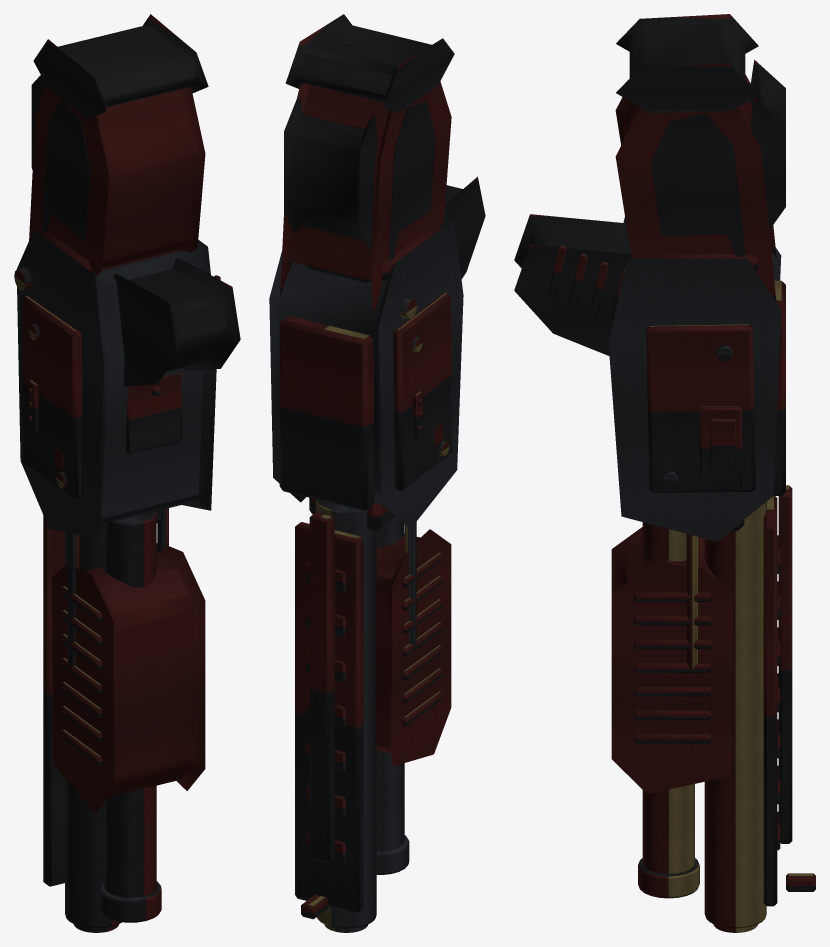
File: BLIKK_B8_BREAKSHOT_V3.glb
3 renders of one model, left to right at view 1: azimuth 30°, elevation 25°; view 2: azimuth 150°, elevation 25°; view 3: azimuth 270°, elevation 25°, orthographic. The views are drawn at different scales.
Parts seen in each view (by area): view 1: PumpCore, ReceiverCore, StockBody, PistolGrip, ButtPad, ReceiverLeftPlate, MagazineTube, Barrel, HeatShield, StockInset, LoadingGate, MagazineCap (+3 smaller); view 2: ReceiverCore, ReceiverTopSpine, HeatShield, PumpCore, StockBody, CheekRest, ButtPad, SightRail, ReceiverLeftPlate, Barrel, StockInset, MagazineTube (+6 smaller); view 3: ReceiverCore, PumpCore, Barrel, ReceiverRightPlate, StockBody, ButtPad, PistolGrip, StockInset, HeatShield, MagazineTube, SightRail, CheekRest (+12 smaller).
Boxes of the visible parts, x1,y1,x2,y2 form: PumpCore: (52, 543, 205, 813); ReceiverCore: (16, 230, 216, 538); StockBody: (29, 85, 205, 276); PistolGrip: (113, 258, 240, 386); ButtPad: (33, 14, 208, 119); ReceiverLeftPlate: (22, 295, 83, 501); MagazineTube: (104, 511, 156, 897); Barrel: (65, 532, 121, 928); HeatShield: (43, 515, 64, 886); StockInset: (41, 99, 90, 240); LoadingGate: (126, 373, 181, 454); MagazineCap: (99, 881, 161, 922); ReceiverCore: (269, 220, 463, 529); ReceiverTopSpine: (279, 316, 373, 510); HeatShield: (295, 522, 363, 913); PumpCore: (376, 529, 451, 766); StockBody: (280, 81, 451, 319); CheekRest: (284, 93, 377, 251); ButtPad: (285, 14, 454, 112); SightRail: (309, 512, 334, 862); ReceiverLeftPlate: (393, 292, 452, 491); Barrel: (316, 499, 376, 928); StockInset: (388, 101, 435, 261); MagazineTube: (376, 517, 404, 850); ReceiverCore: (608, 217, 781, 541); PumpCore: (611, 527, 733, 794); Barrel: (704, 502, 766, 928); ReceiverRightPlate: (646, 324, 755, 493); StockBody: (615, 74, 776, 302); ButtPad: (616, 14, 758, 113); PistolGrip: (514, 214, 634, 356); StockInset: (651, 113, 745, 256); HeatShield: (763, 496, 777, 906); MagazineTube: (642, 522, 694, 873); SightRail: (778, 485, 792, 843); CheekRest: (750, 60, 785, 229).
Bounding box in the file's own units: 0.6675 × 3.94 × 1.22.
Materials: 4 (4 with a texture image).
